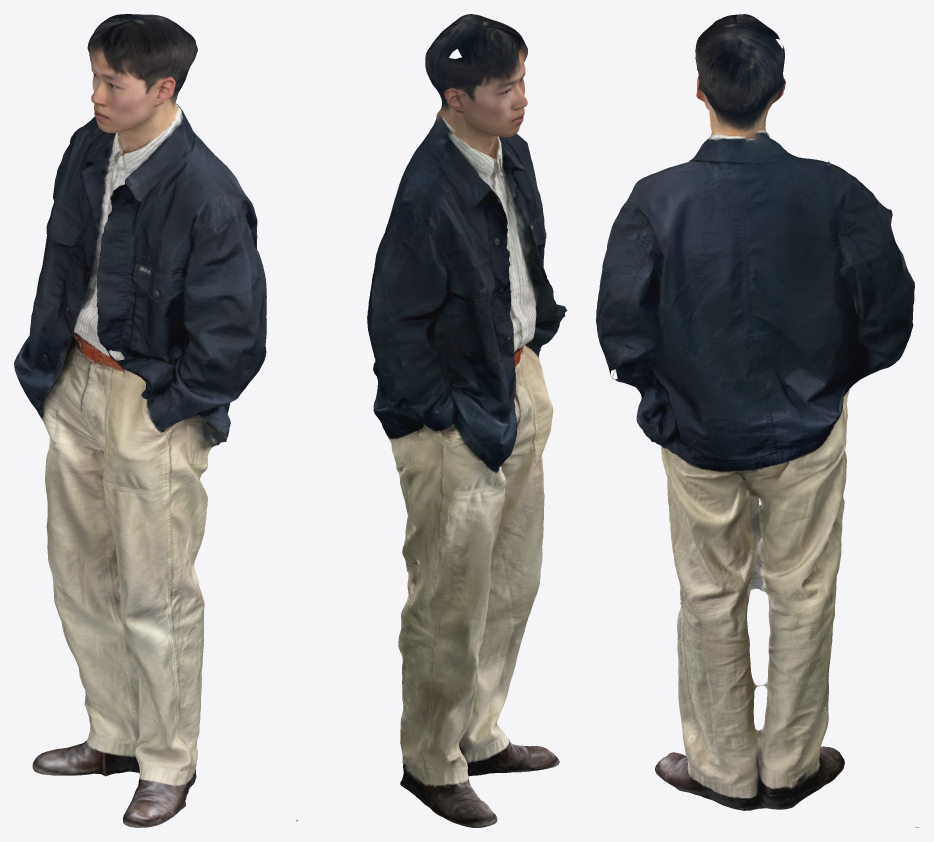
Rendered from manstanding.glb.
The picture shows the model from 3 angles, left to right: view 1: azimuth 30°, elevation 25°; view 2: azimuth 150°, elevation 25°; view 3: azimuth 270°, elevation 25°; orthographic projection. The views are drawn at different scales.
Visible parts, largest first — view 1: Object_4; view 2: Object_4; view 3: Object_4.
Part boxes in pixels (x1,y1,x2,y2): Object_4: [14, 14, 266, 827]; Object_4: [296, 14, 567, 827]; Object_4: [596, 14, 918, 827].
Size of the model in its own units: 0.4057 by 1.77 by 0.6859.
1 material, 1 textured.
